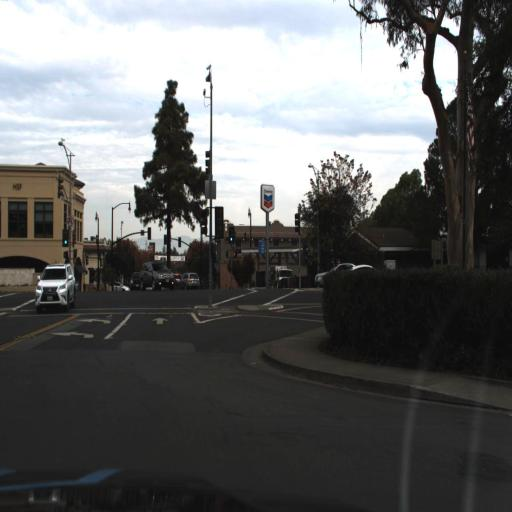car: (34, 260, 79, 316), (137, 257, 177, 293), (313, 260, 356, 286), (343, 259, 384, 276)
trafficLight-Green: (227, 222, 236, 247), (61, 226, 69, 247)
